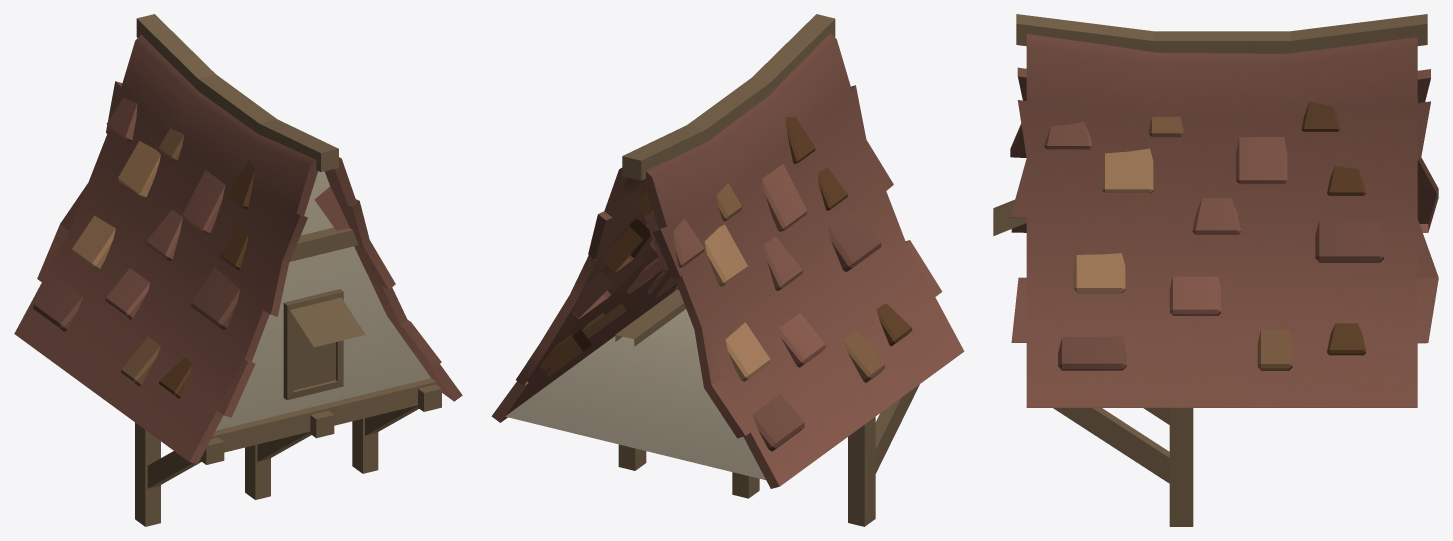
The model's file is ZLP_Build_B_17.FBX.
3 views of the same model, side by side, from view 1: azimuth 30°, elevation 25°; view 2: azimuth 150°, elevation 25°; view 3: azimuth 270°, elevation 25° (orthographic). The views are drawn at different scales.
Visible parts, largest first — view 1: ZLP_Build_B_17; view 2: ZLP_Build_B_17; view 3: ZLP_Build_B_17.
Part boxes in pixels (bbox=[...]): ZLP_Build_B_17: bbox=[14, 14, 462, 526]; ZLP_Build_B_17: bbox=[491, 14, 964, 526]; ZLP_Build_B_17: bbox=[993, 14, 1438, 526].
Size of the model in its own units: 293 by 407 by 370.
